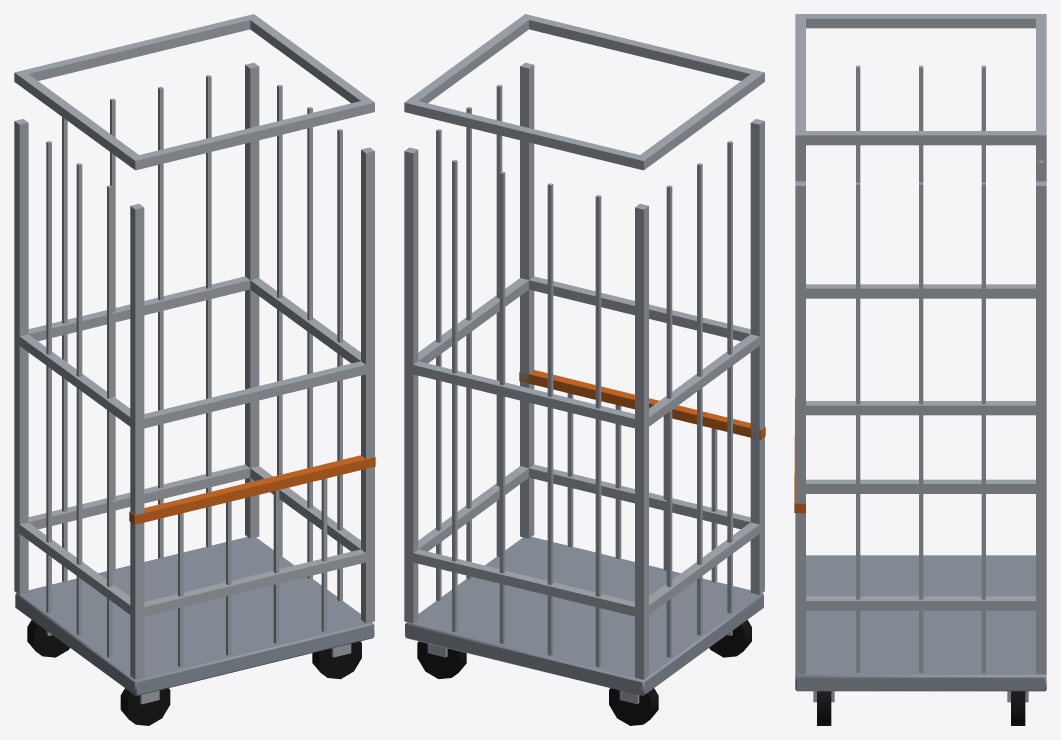
Rendered from pallet_roll_cage_empty.glb.
3 views of the same model, side by side, from view 1: azimuth 30°, elevation 25°; view 2: azimuth 150°, elevation 25°; view 3: azimuth 270°, elevation 25° (orthographic). The views are drawn at different scales.
Parts seen in each view (by area): view 1: pallet_roll_cage_empty; view 2: pallet_roll_cage_empty; view 3: pallet_roll_cage_empty.
Part boxes in pixels (x1,y1,x2,y2): pallet_roll_cage_empty: [14, 14, 375, 725]; pallet_roll_cage_empty: [404, 14, 765, 725]; pallet_roll_cage_empty: [794, 14, 1046, 725].
Size of the model in its own units: 0.806 by 1.85 by 0.703.
